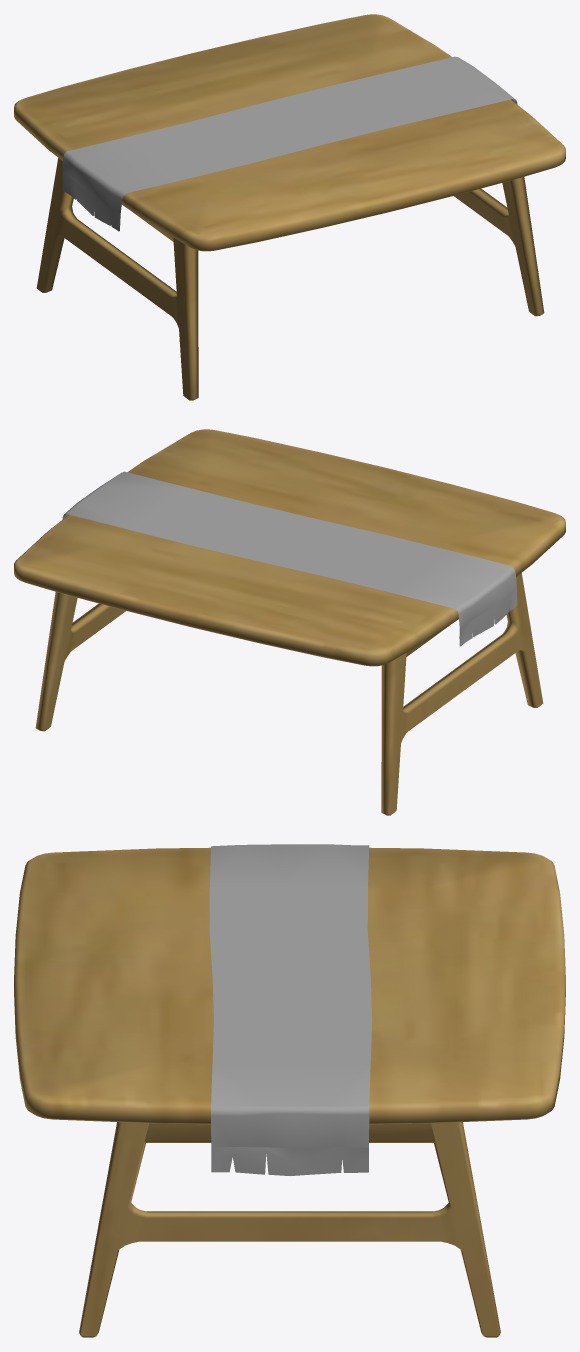
3 views of the same model, one above another, from view 1: azimuth 30°, elevation 25°; view 2: azimuth 150°, elevation 25°; view 3: azimuth 270°, elevation 25° (orthographic). The views are drawn at different scales.
Bounding box in the file's own units: 19.24 × 8.14 × 16.69.
2 materials, 2 textured.
